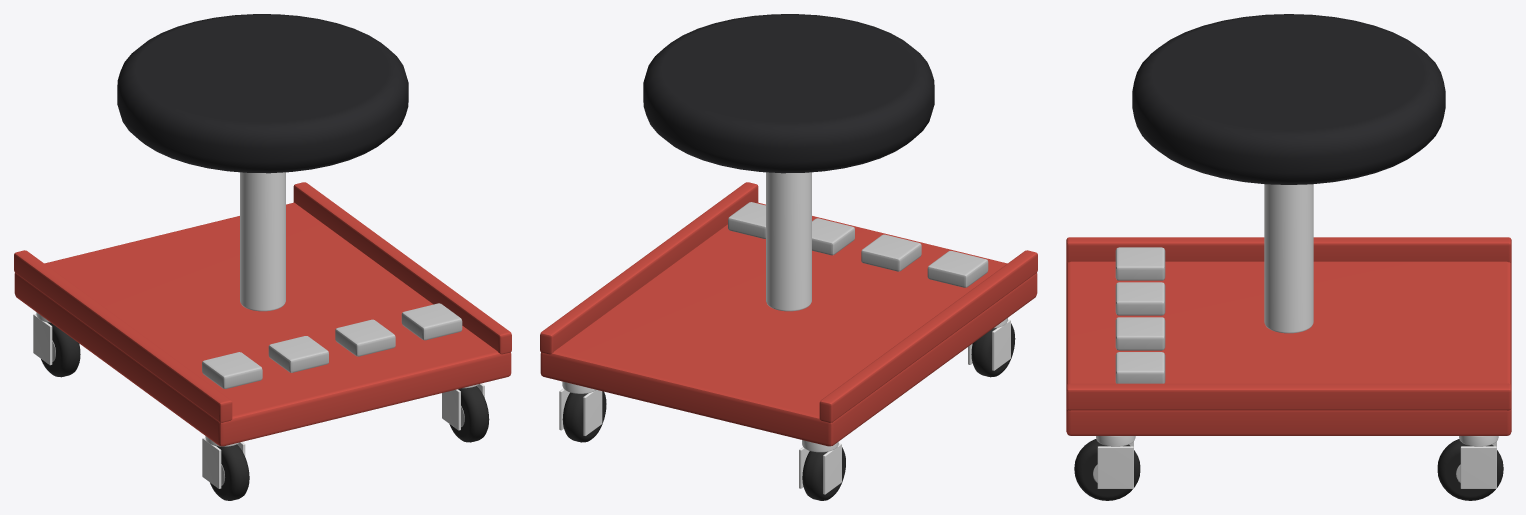
Rendered from seat_creeper.glb.
3 renders of one model, left to right at view 1: azimuth 30°, elevation 25°; view 2: azimuth 150°, elevation 25°; view 3: azimuth 270°, elevation 25°, orthographic. The views are drawn at different scales.
Parts seen in each view (by area): view 1: SM_seat_creeper; view 2: SM_seat_creeper; view 3: SM_seat_creeper.
Boxes of the visible parts, x1=… form: SM_seat_creeper: x1=14, y1=14, x2=511, y2=500; SM_seat_creeper: x1=540, y1=14, x2=1037, y2=500; SM_seat_creeper: x1=1066, y1=14, x2=1511, y2=500.
Size of the model in its own units: 0.44 by 0.485 by 0.54.
